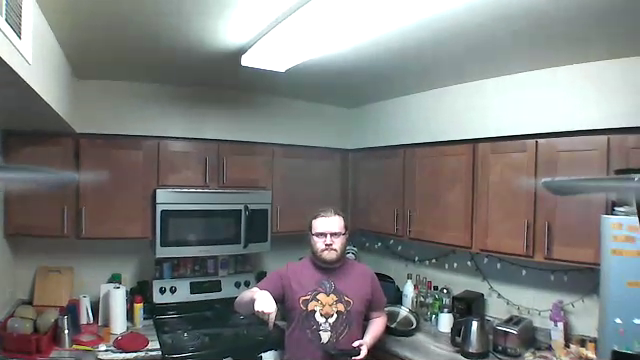down: (250, 287, 279, 335)
